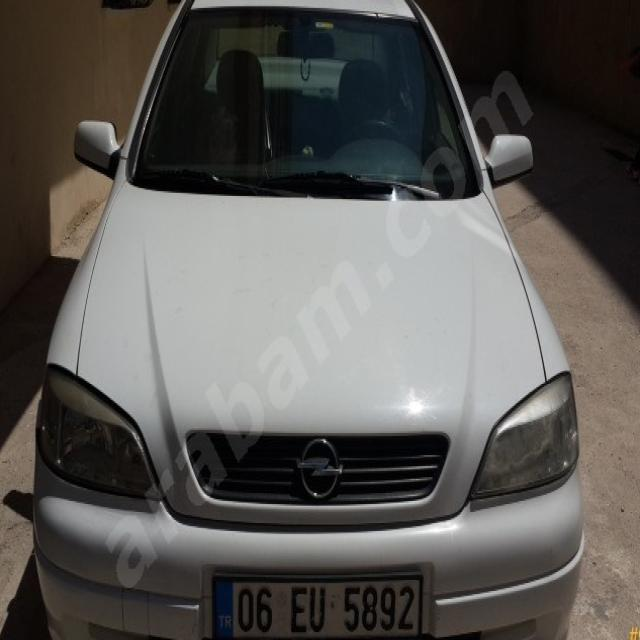license_plate: (211, 575, 422, 640)
